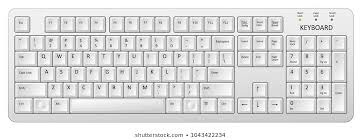keyboard: (7, 4, 357, 125)
